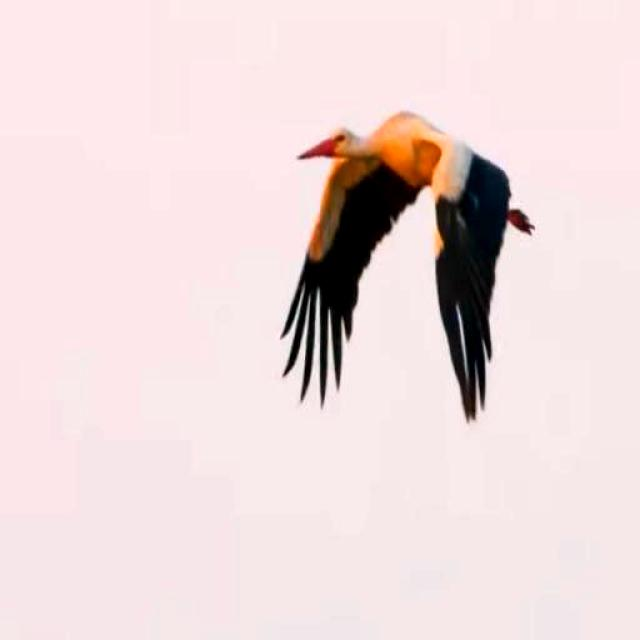airplane: (281, 119, 538, 415)
